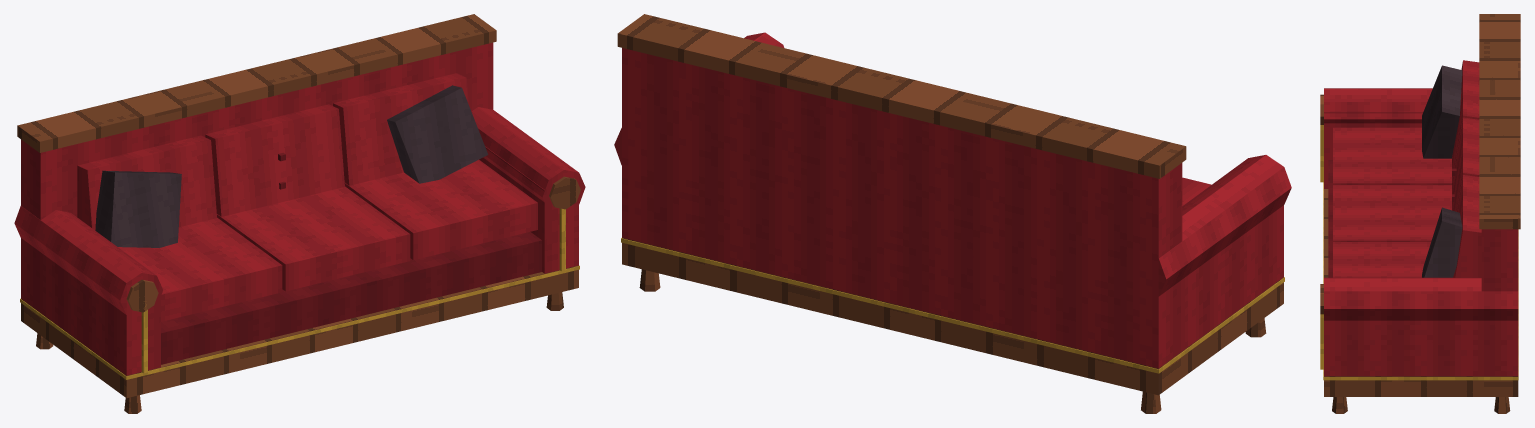
Rendered from sofa.glb.
3 renders of one model, left to right at view 1: azimuth 30°, elevation 25°; view 2: azimuth 150°, elevation 25°; view 3: azimuth 270°, elevation 25°, orthographic. The views are drawn at different scales.
Visible parts, largest first — view 1: Sofa; view 2: Sofa; view 3: Sofa.
Part boxes in pixels (left/top/right/bottom): Sofa: left=14, top=14, right=585, bottom=413; Sofa: left=614, top=14, right=1291, bottom=413; Sofa: left=1320, top=14, right=1520, bottom=413.
Bounding box in the file's own units: 2.16 × 0.965 × 0.875.
5 materials, 5 textured.
